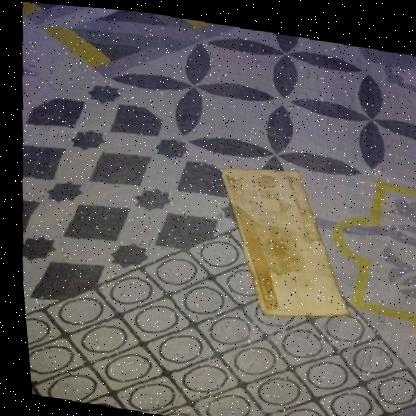five-back-vef: (209, 155, 352, 321)
